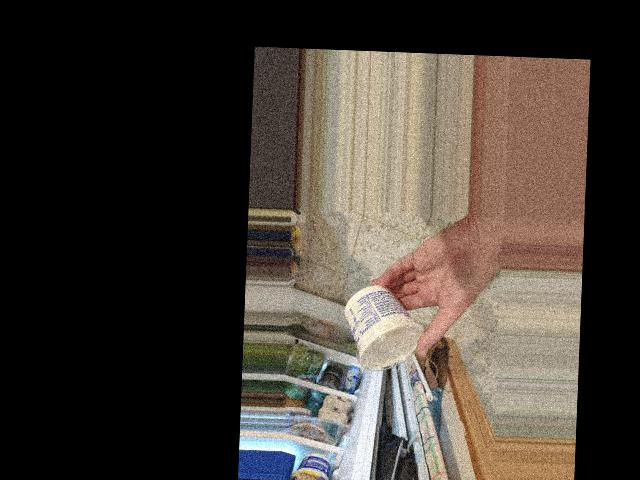cotage: (344, 291, 429, 373)
